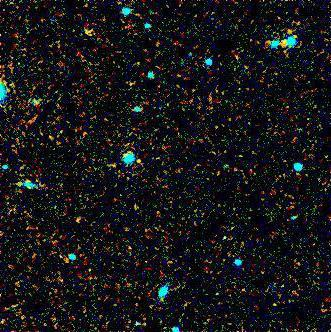star: (123, 147, 153, 177)
